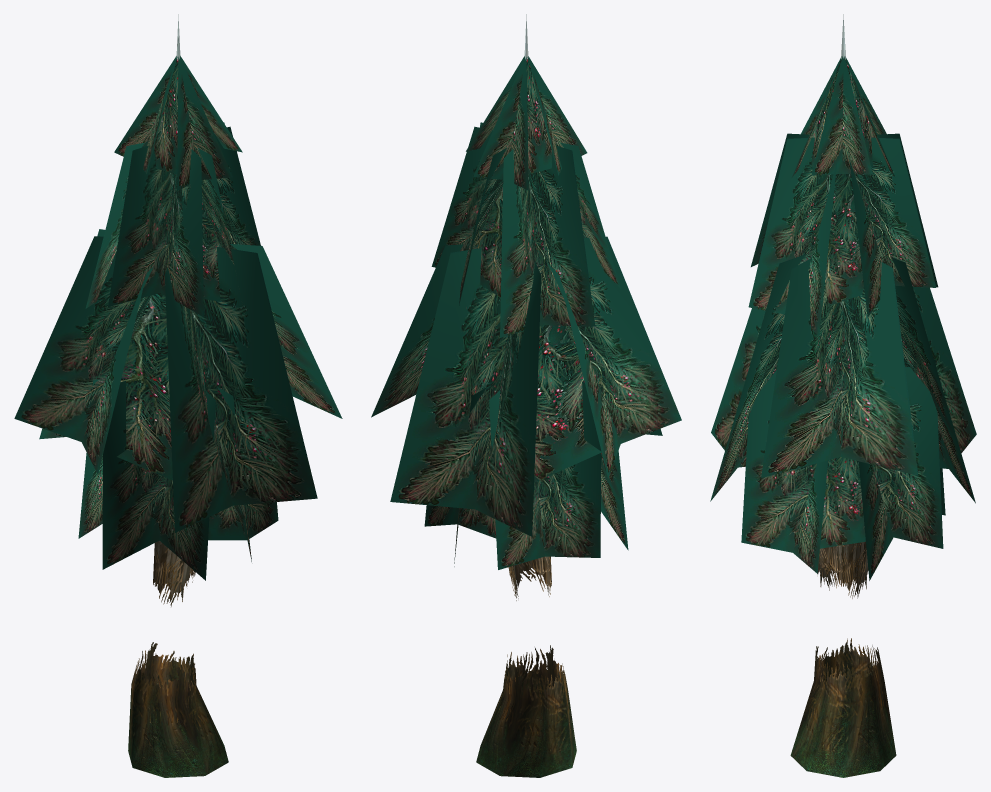
File: silverpinetree02.obj
The picture shows the model from 3 angles, left to right: view 1: azimuth 30°, elevation 25°; view 2: azimuth 150°, elevation 25°; view 3: azimuth 270°, elevation 25°; orthographic projection.
Visible parts, largest first — view 1: SILVERPINETREE021, SILVERPINETREE020; view 2: SILVERPINETREE021, SILVERPINETREE020; view 3: SILVERPINETREE021, SILVERPINETREE020.
Boxes of the visible parts, x1=… form: SILVERPINETREE021: x1=14, y1=55, x2=342, y2=580; SILVERPINETREE020: x1=128, y1=14, x2=228, y2=777; SILVERPINETREE021: x1=371, y1=56, x2=681, y2=569; SILVERPINETREE020: x1=476, y1=14, x2=576, y2=777; SILVERPINETREE021: x1=710, y1=56, x2=976, y2=580; SILVERPINETREE020: x1=790, y1=14, x2=896, y2=777.
Bounding box in the file's own units: 40.85 × 118 × 38.42.
2 materials, 2 textured.
